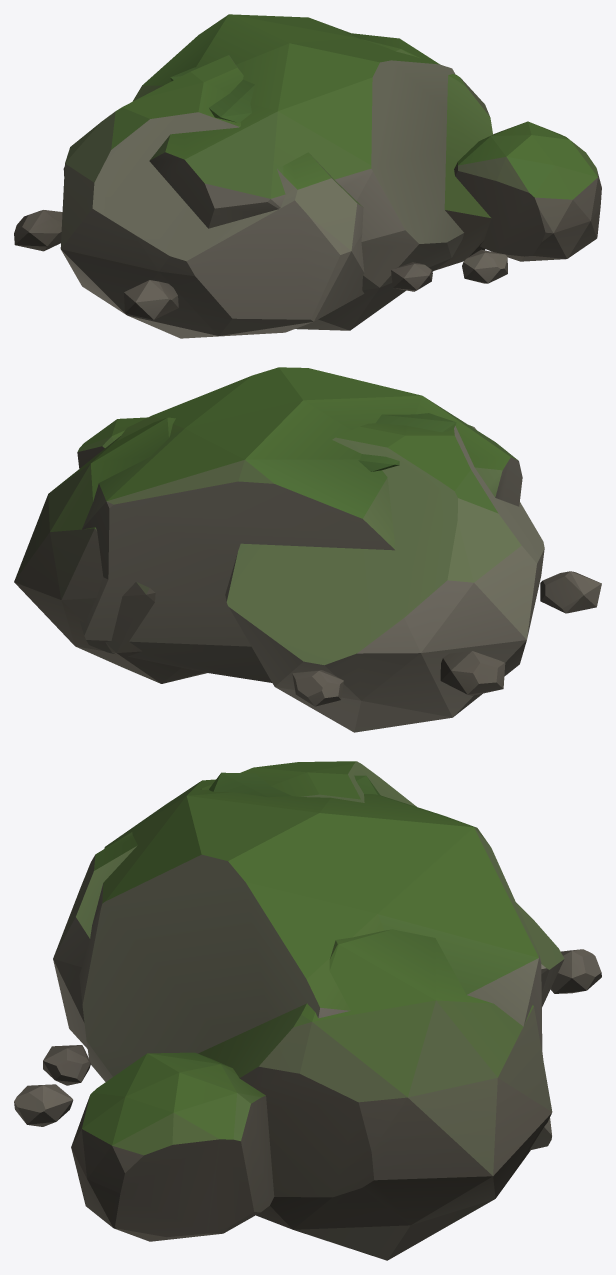
File: jungle-rocks.glb
The picture shows the model from 3 angles, top to bottom: view 1: azimuth 30°, elevation 25°; view 2: azimuth 150°, elevation 25°; view 3: azimuth 270°, elevation 25°; orthographic projection. The views are drawn at different scales.
Visible parts, largest first — view 1: boulder-0, boulder-1; view 2: boulder-1, boulder-0; view 3: boulder-0, boulder-1.
Part boxes in pixels (x1=…): boulder-0: x1=63, y1=14, x2=601, y2=330; boulder-1: x1=14, y1=32, x2=492, y2=338; boulder-1: x1=14, y1=417, x2=544, y2=732; boulder-0: x1=77, y1=367, x2=601, y2=706; boulder-0: x1=14, y1=772, x2=601, y2=1241; boulder-1: x1=43, y1=761, x2=564, y2=1260.
Size of the model in its own units: 3.05 by 1.63 by 2.45.
